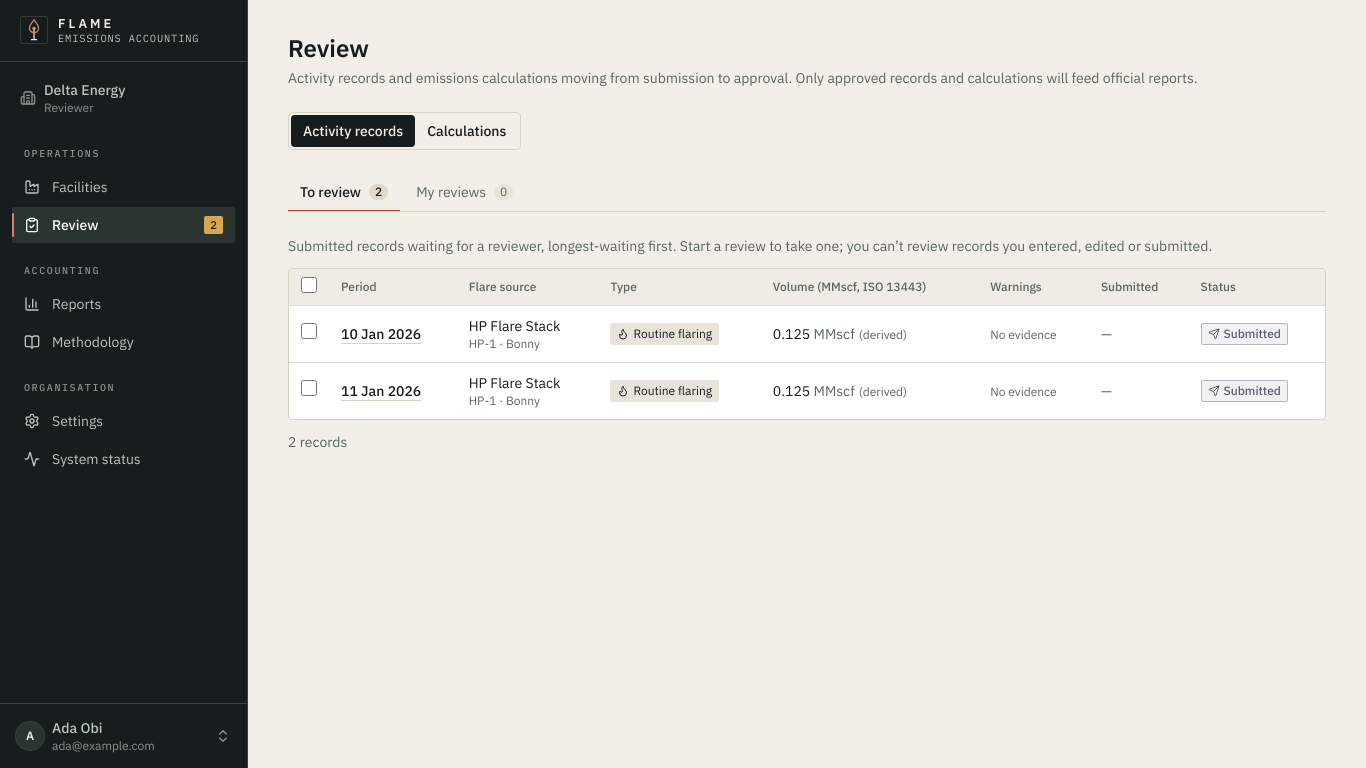
Test: the review page › starts reviews in bulk and reports records that could not be claimed
What coordinates should you click on to do the following:
click the checkbox named "Select all records on this page that you can act on"
I would click on:
 (309, 285)
Its box is [301,277,317,293].
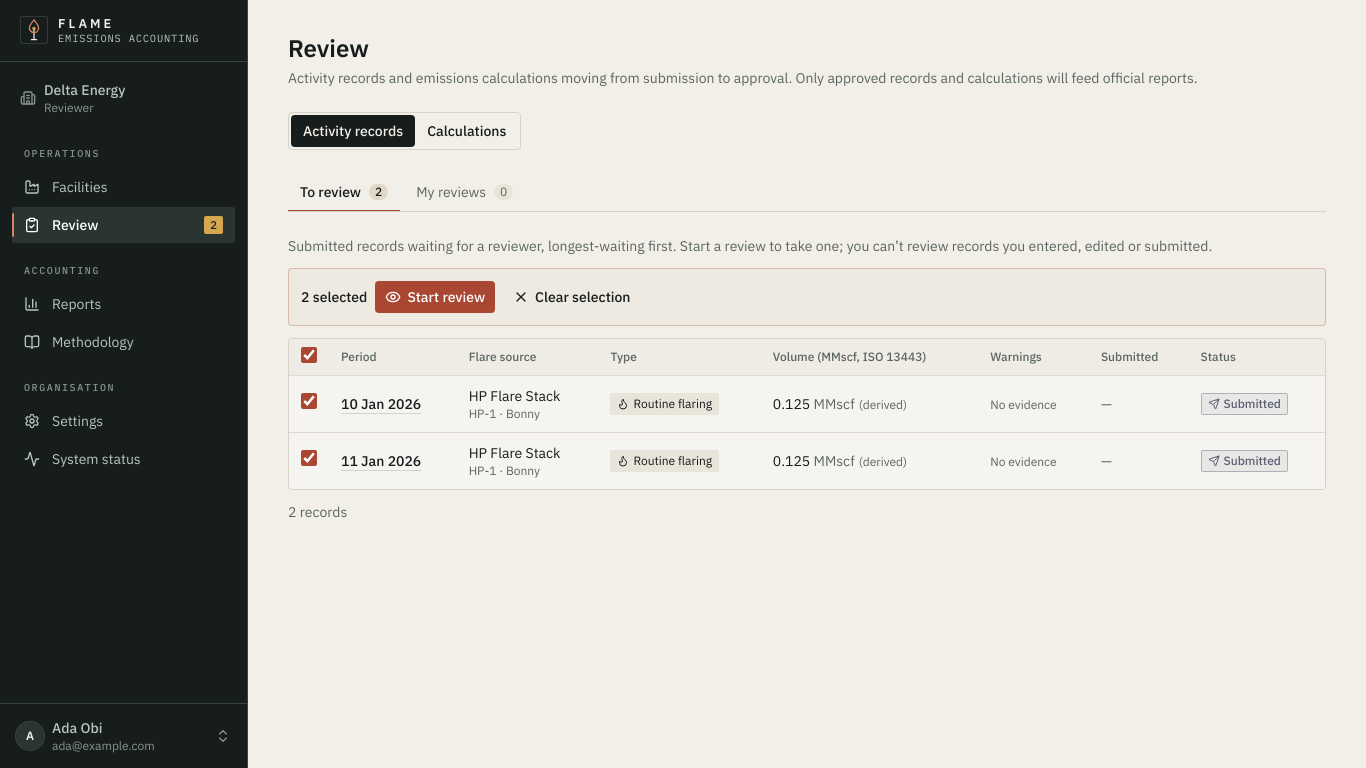
Expected: the text "2 selected" is shown, [301,287,367,307]
What coordinates should you click on to do the following:
click the button "Start review"
I would click on:
 (435, 297)
Its box is [375,281,495,313].
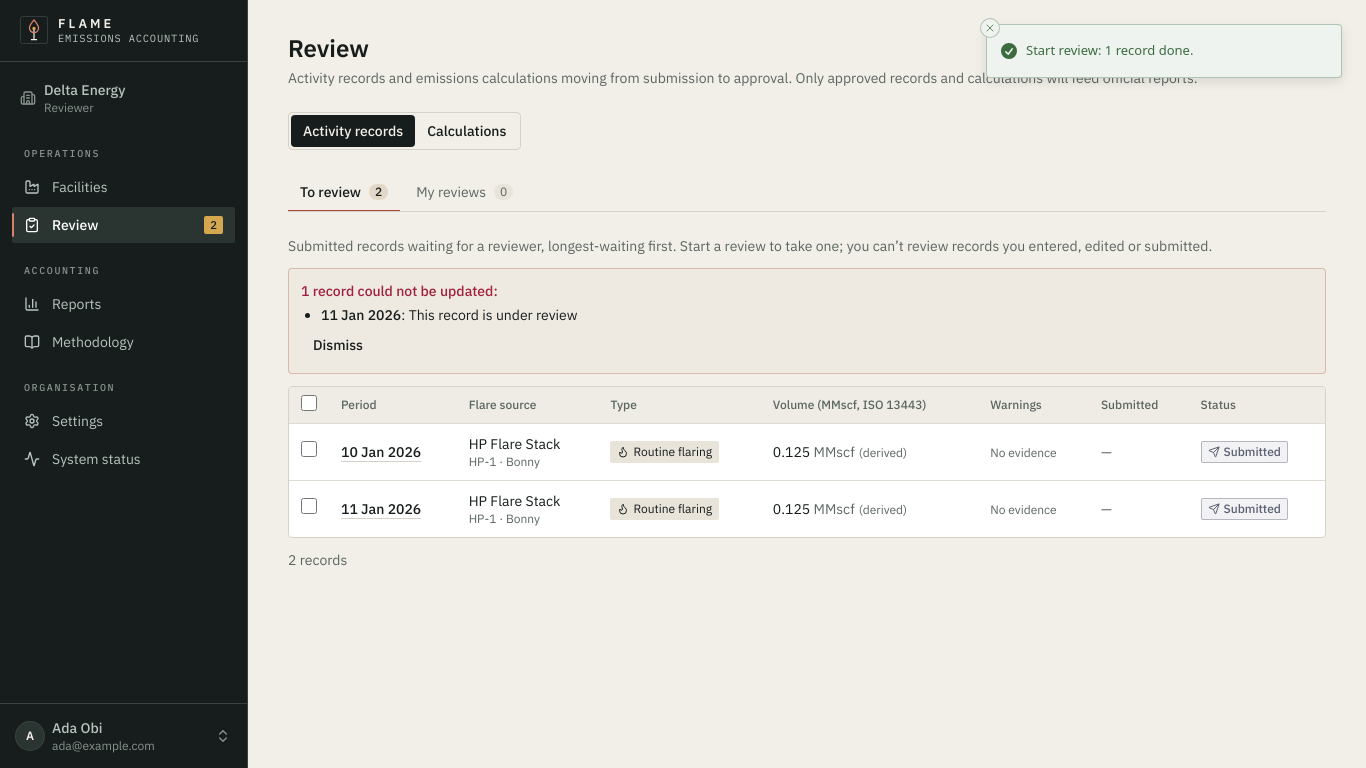
Expected: the text "Start review: 1 record done." is shown, [1026,41,1193,60]
Expected: the message shows "11 Jan 2026: This record is under review", [301,282,578,361]
